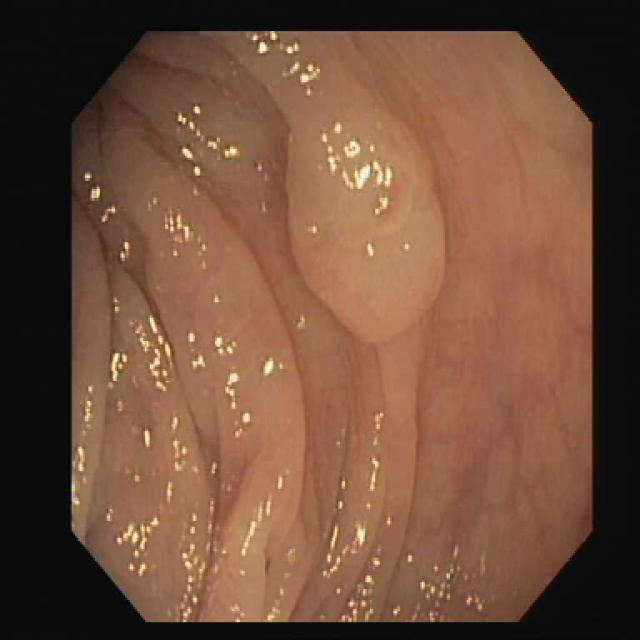tumor: (288, 102, 443, 340)
